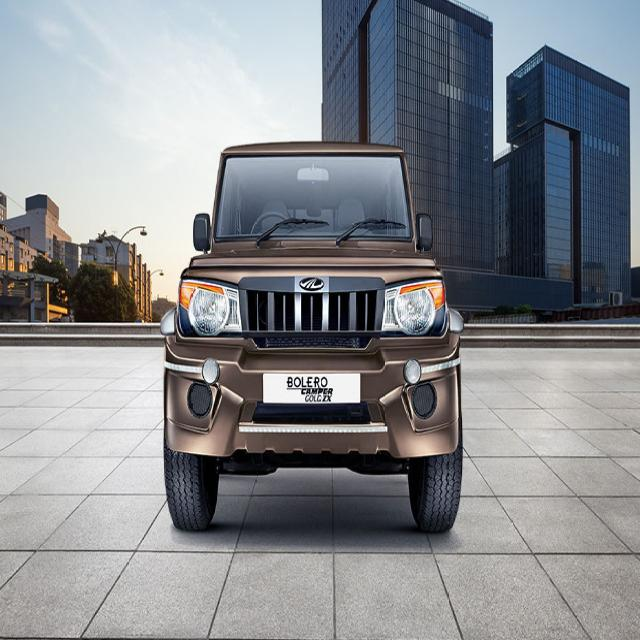light_vehicle: (154, 140, 462, 534)
